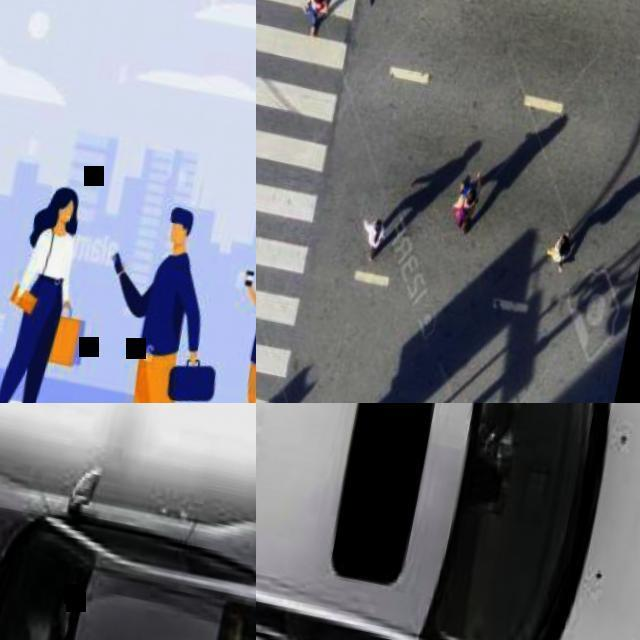car: (0, 133, 256, 639)
